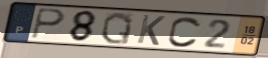2: (202, 18, 235, 50)
8: (67, 10, 100, 44)
C: (166, 15, 204, 49)
K: (135, 13, 168, 47)
P: (30, 7, 67, 41)
Q: (99, 11, 135, 46)
